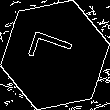L_E: (27, 32, 83, 78)
